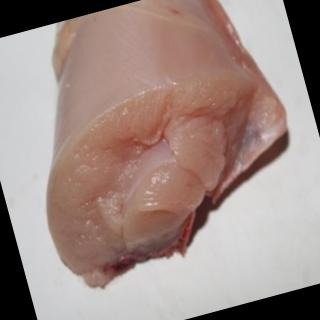Ayam: (1, 1, 319, 297)
